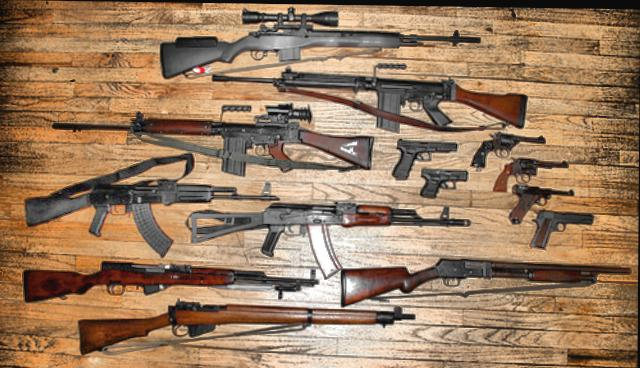pistol: (469, 127, 545, 167), (391, 137, 459, 179), (490, 155, 570, 190), (526, 206, 593, 245), (506, 181, 566, 222), (418, 165, 470, 195)
